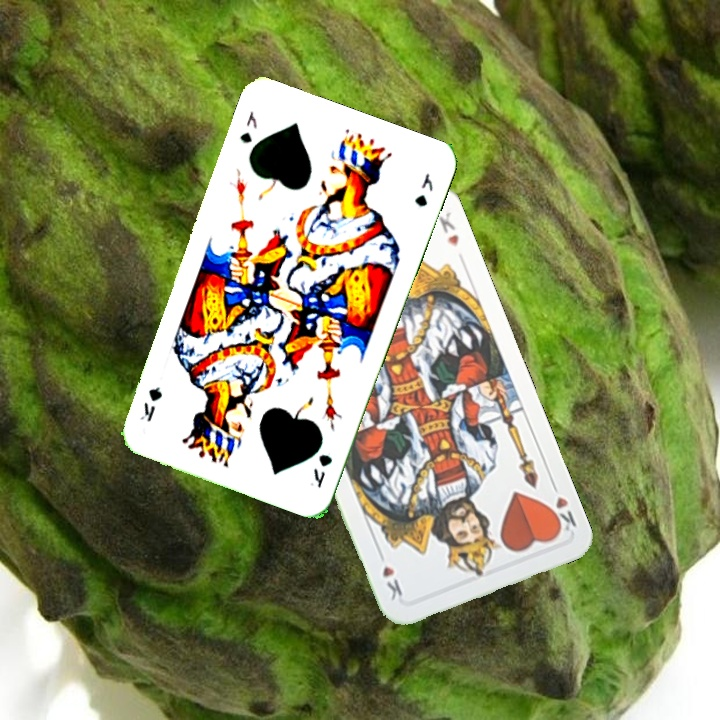GK: (309, 450, 335, 490), (235, 107, 260, 146)
HK: (544, 477, 579, 536)
